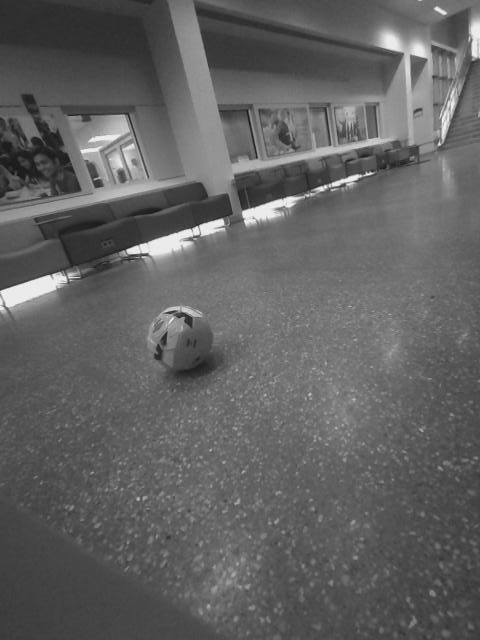ball: (144, 303, 222, 376)
